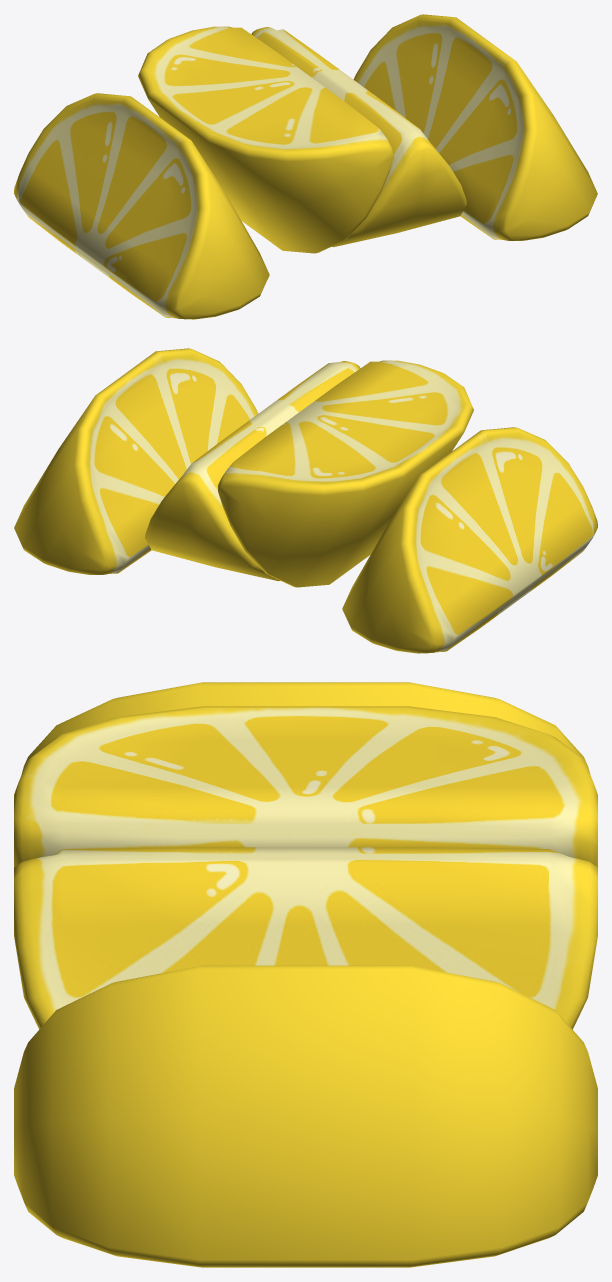
File: DogranmisLimon.fbx
3 renders of one model, top to bottom at view 1: azimuth 30°, elevation 25°; view 2: azimuth 150°, elevation 25°; view 3: azimuth 270°, elevation 25°, orthographic. The views are drawn at different scales.
Visible parts, largest first — view 1: DogranmisLimon; view 2: DogranmisLimon; view 3: DogranmisLimon.
Boxes of the visible parts, x1,y1,x2,y2 form: DogranmisLimon: (14,14,597,319); DogranmisLimon: (14,348,597,653); DogranmisLimon: (14,682,597,1267).
Bounding box in the file's own units: 0.8856 × 0.2532 × 0.5346.
1 material, 1 textured.
